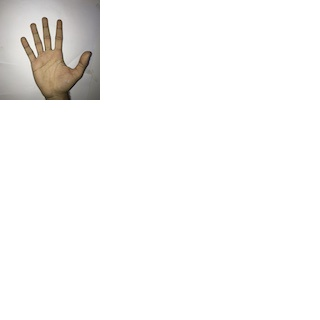paper: (12, 14, 92, 97)
